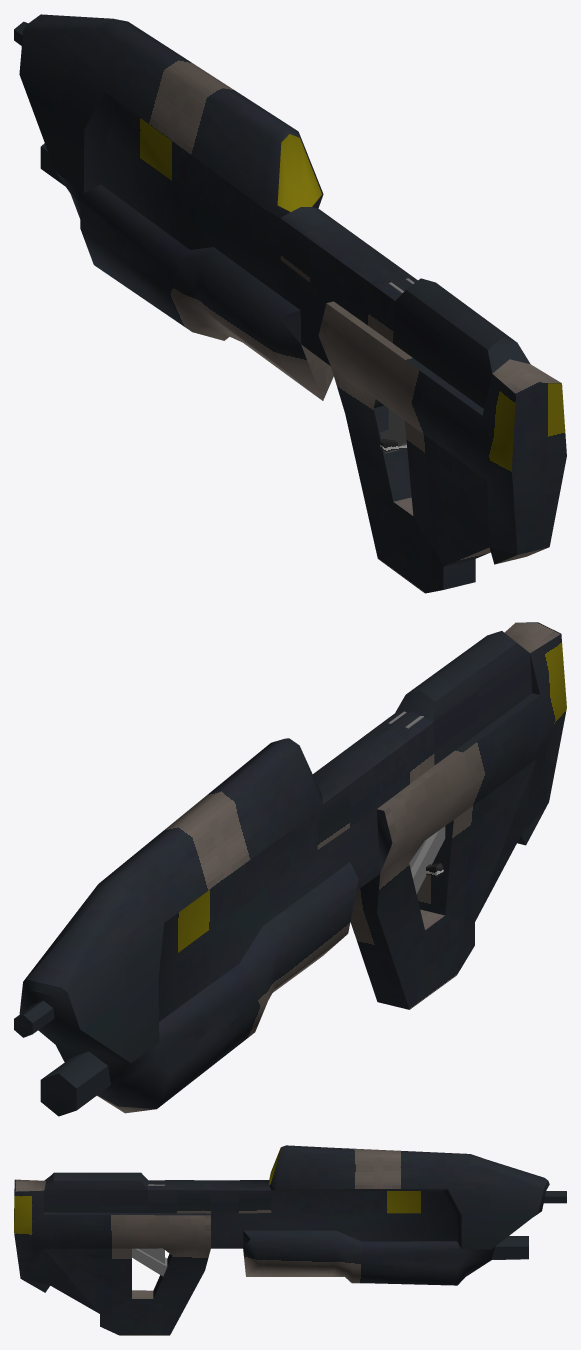
Rendered from Debug.FBX.
The picture shows the model from 3 angles, top to bottom: view 1: azimuth 30°, elevation 25°; view 2: azimuth 150°, elevation 25°; view 3: azimuth 270°, elevation 25°; orthographic projection. The views are drawn at different scales.
Visible parts, largest first — view 1: Assault_Rifle; view 2: Assault_Rifle, Magazine; view 3: Assault_Rifle, Magazine.
Part boxes in pixels (box(x1,y1,x2,y2)): Assault_Rifle: box(14, 14, 566, 593); Assault_Rifle: box(14, 622, 566, 1116); Magazine: box(388, 711, 445, 893); Assault_Rifle: box(14, 1145, 566, 1335); Magazine: box(132, 1180, 167, 1276).
Size of the model in its own units: 146 by 1443 by 535.
2 materials, 2 textured.
